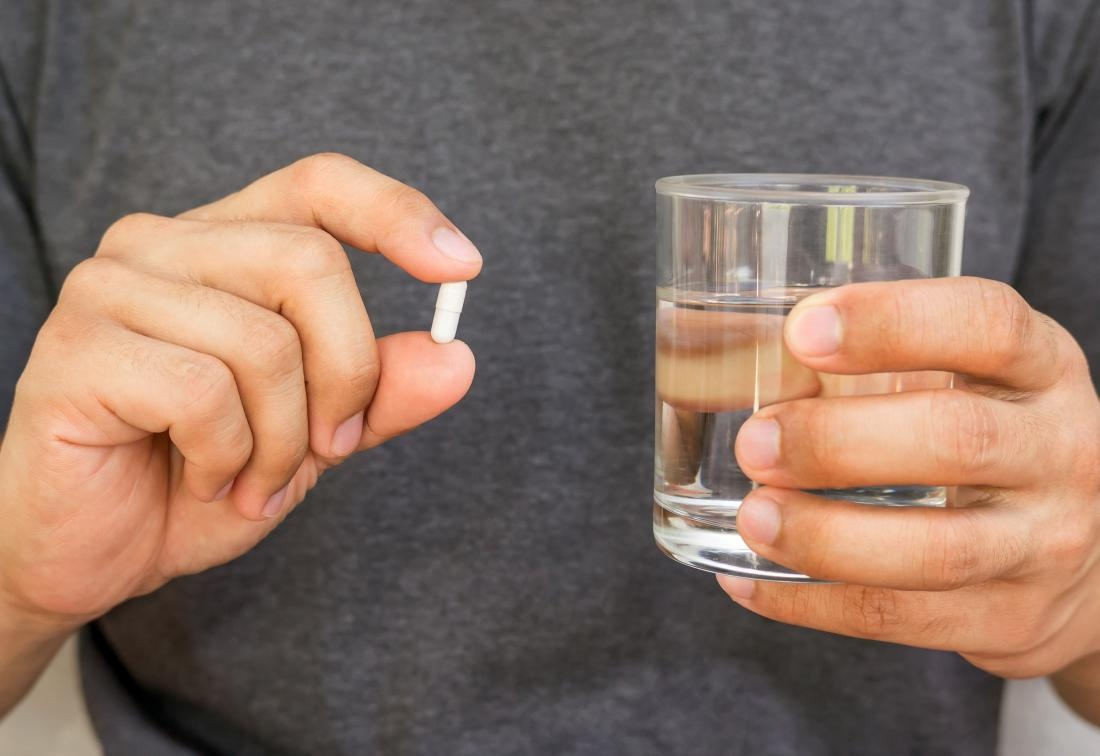pills: (430, 271, 471, 349)
